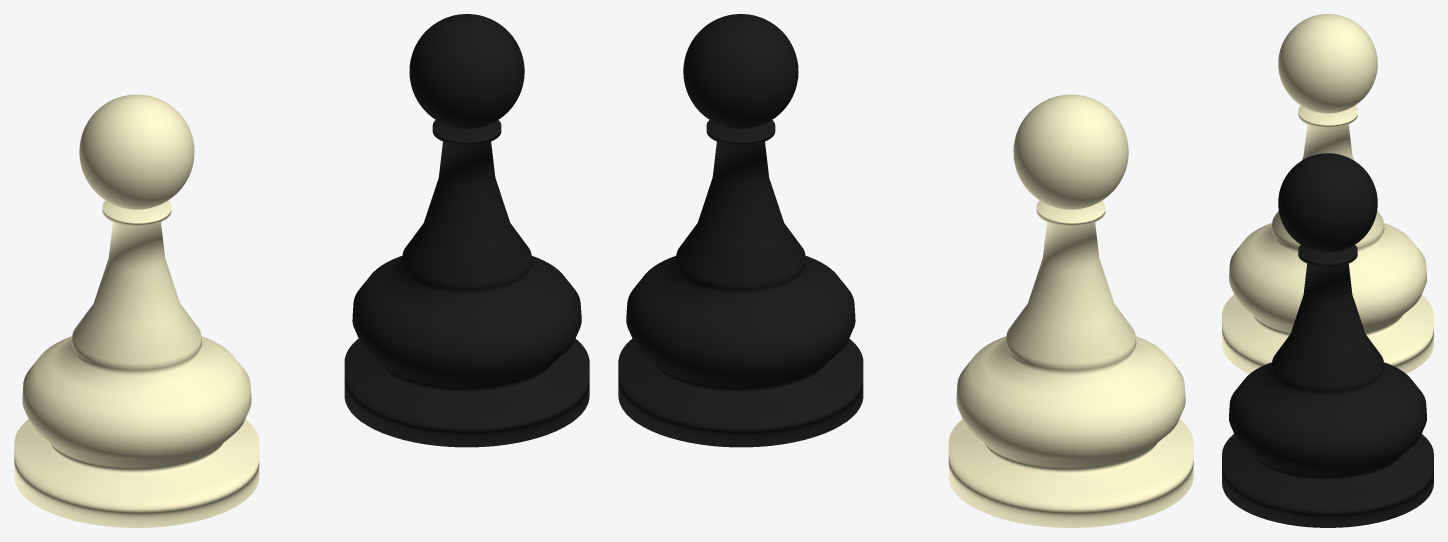
File: chesspawn.gltf
3 renders of one model, left to right at view 1: azimuth 30°, elevation 25°; view 2: azimuth 150°, elevation 25°; view 3: azimuth 270°, elevation 25°, orthographic. The views are drawn at different scales.
Parts seen in each view (by area): view 1: blackpawn, whitepawn; view 2: blackpawn, whitepawn; view 3: blackpawn, whitepawn.
Boxes of the visible parts, left/top/right/bottom form: blackpawn: left=344, top=14, right=589, bottom=447; whitepawn: left=14, top=94, right=259, bottom=527; blackpawn: left=618, top=14, right=863, bottom=447; whitepawn: left=948, top=94, right=1193, bottom=527; blackpawn: left=1222, top=153, right=1433, bottom=527; whitepawn: left=1222, top=14, right=1433, bottom=373.
Size of what is drawn, in the model's own units: 5.11 by 3.39 by 2.
